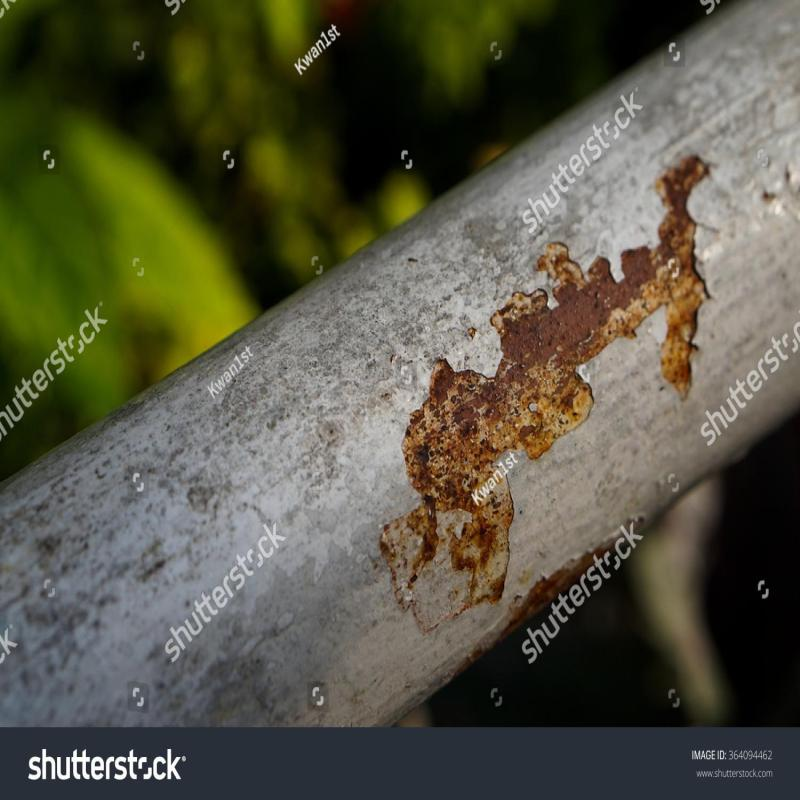corrosion: (347, 142, 716, 648)
